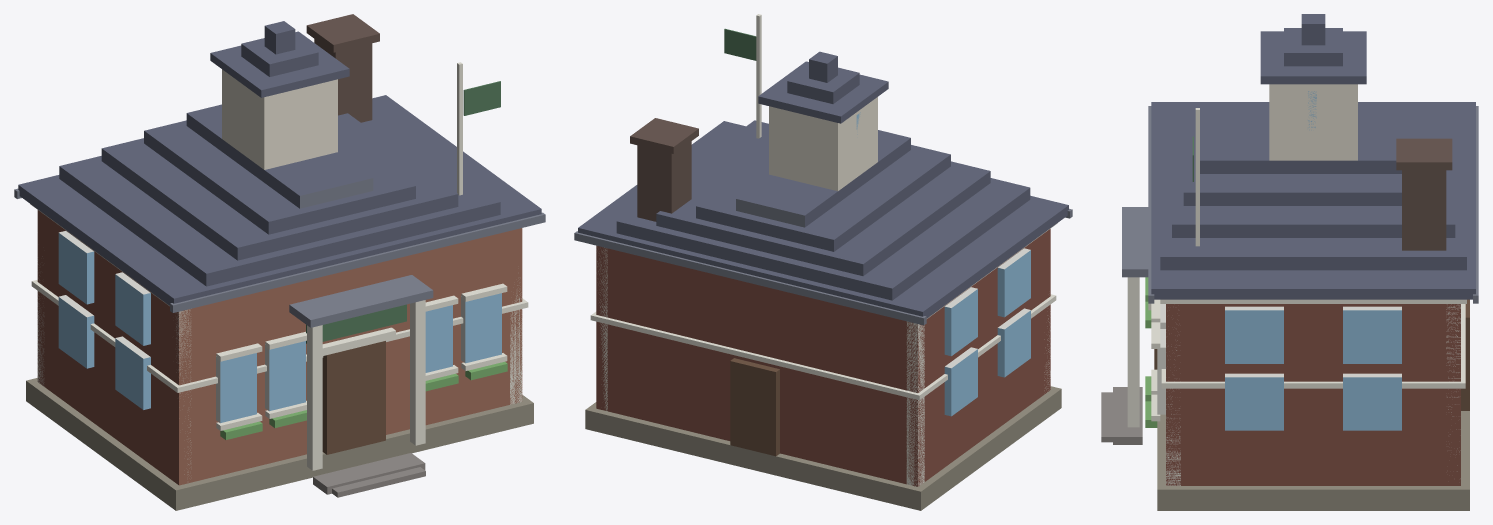
File: Schoolhouse.fbx
3 renders of one model, left to right at view 1: azimuth 30°, elevation 25°; view 2: azimuth 150°, elevation 25°; view 3: azimuth 270°, elevation 25°, orthographic. The views are drawn at different scales.
Visible parts, largest first — view 1: Schoolhouse; view 2: Schoolhouse; view 3: Schoolhouse.
Part boxes in pixels (box(x1,y1,x2,y2)): Schoolhouse: box(14, 14, 545, 510); Schoolhouse: box(574, 14, 1072, 510); Schoolhouse: box(1101, 14, 1478, 510).
Bounding box in the file's own units: 1520 × 1500 × 1280.
